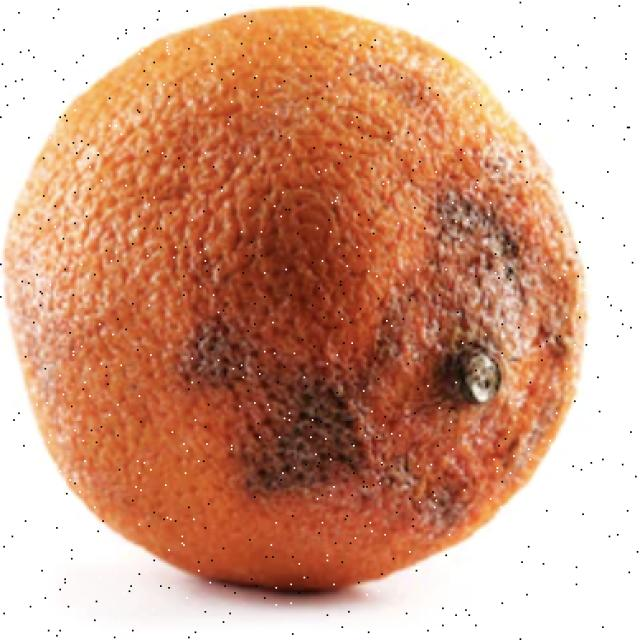Organik: (0, 1, 627, 608)
